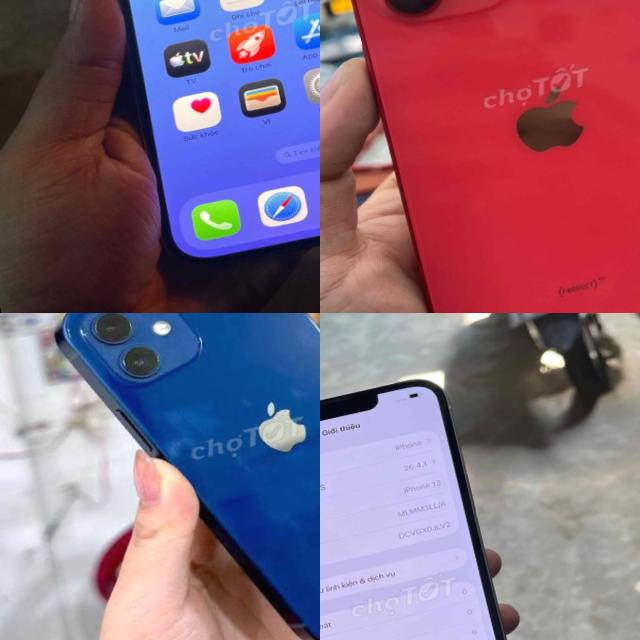gen_12_13: (320, 0, 640, 313), (44, 313, 320, 640), (320, 367, 542, 640)
gen_14: (57, 0, 320, 279)
